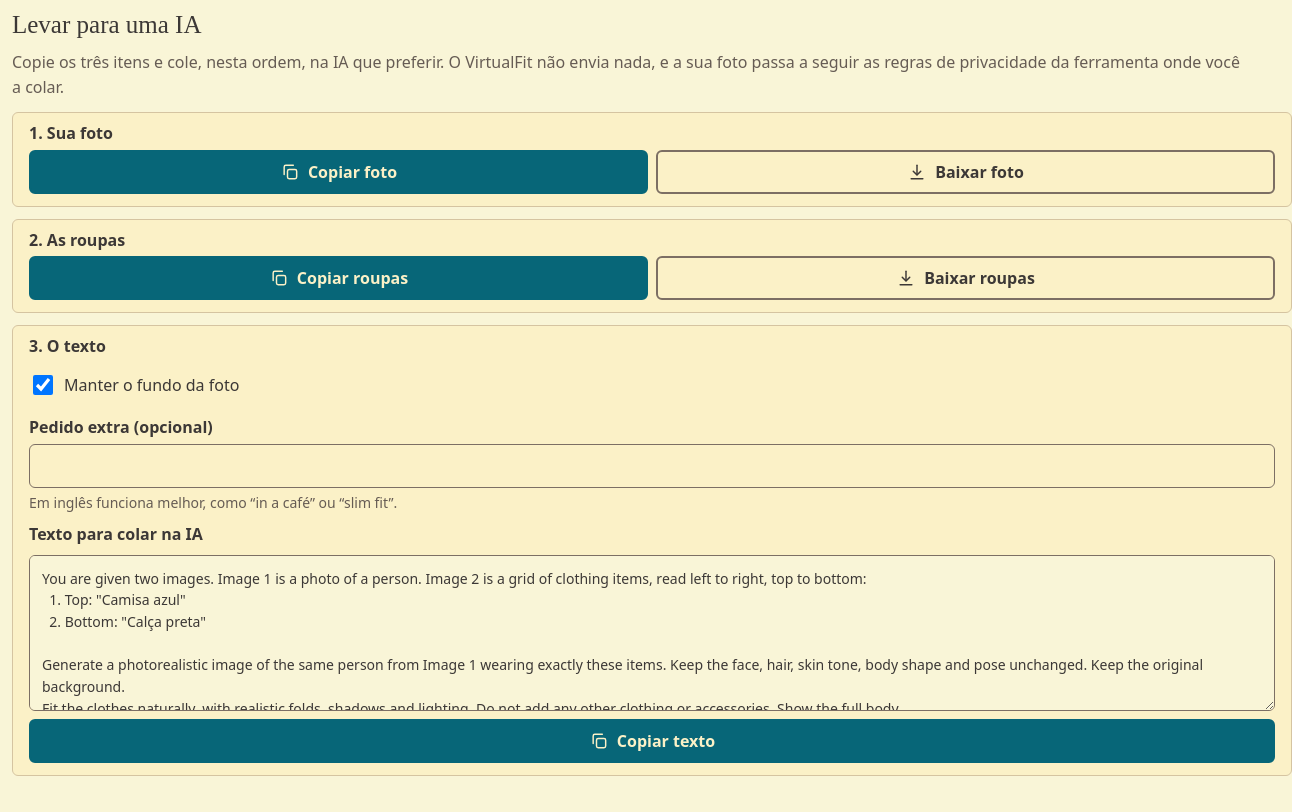
Test: OutfitOutput: imagens › mostra o erro quando a imagem não carrega
Click the button "Copiar roupas".
click(338, 278)  # box [29,256,648,300]
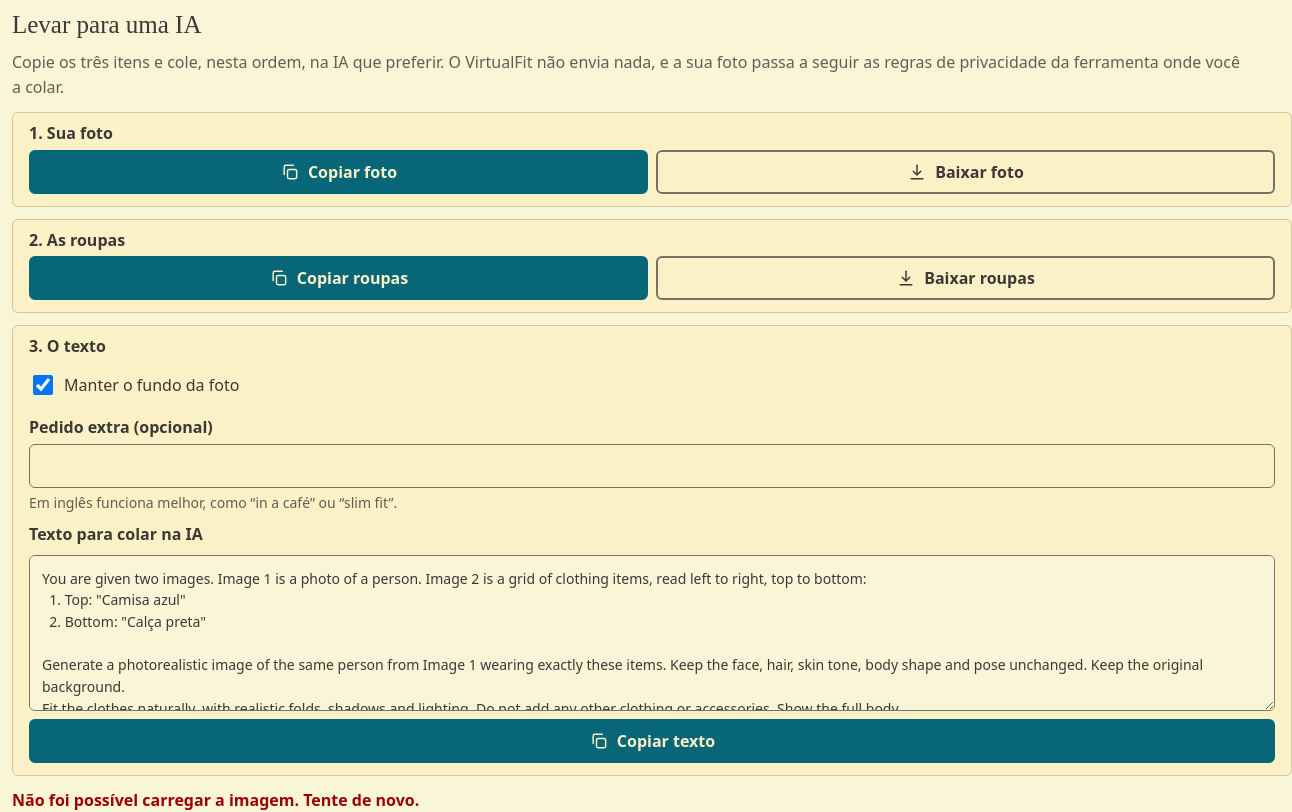
Result: the message reads "Não foi possível carregar a imagem. Tente de novo." at [12,789,419,811]
